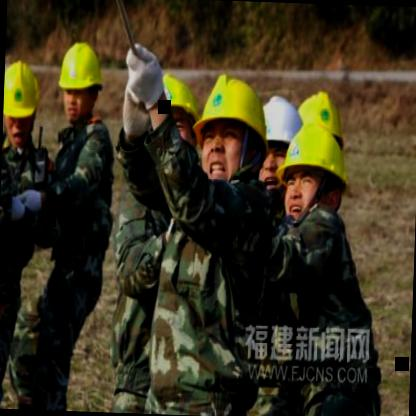helmet: (274, 105, 354, 235), (189, 69, 265, 190), (54, 34, 109, 131), (256, 92, 305, 178), (2, 56, 42, 151), (158, 74, 195, 144)
